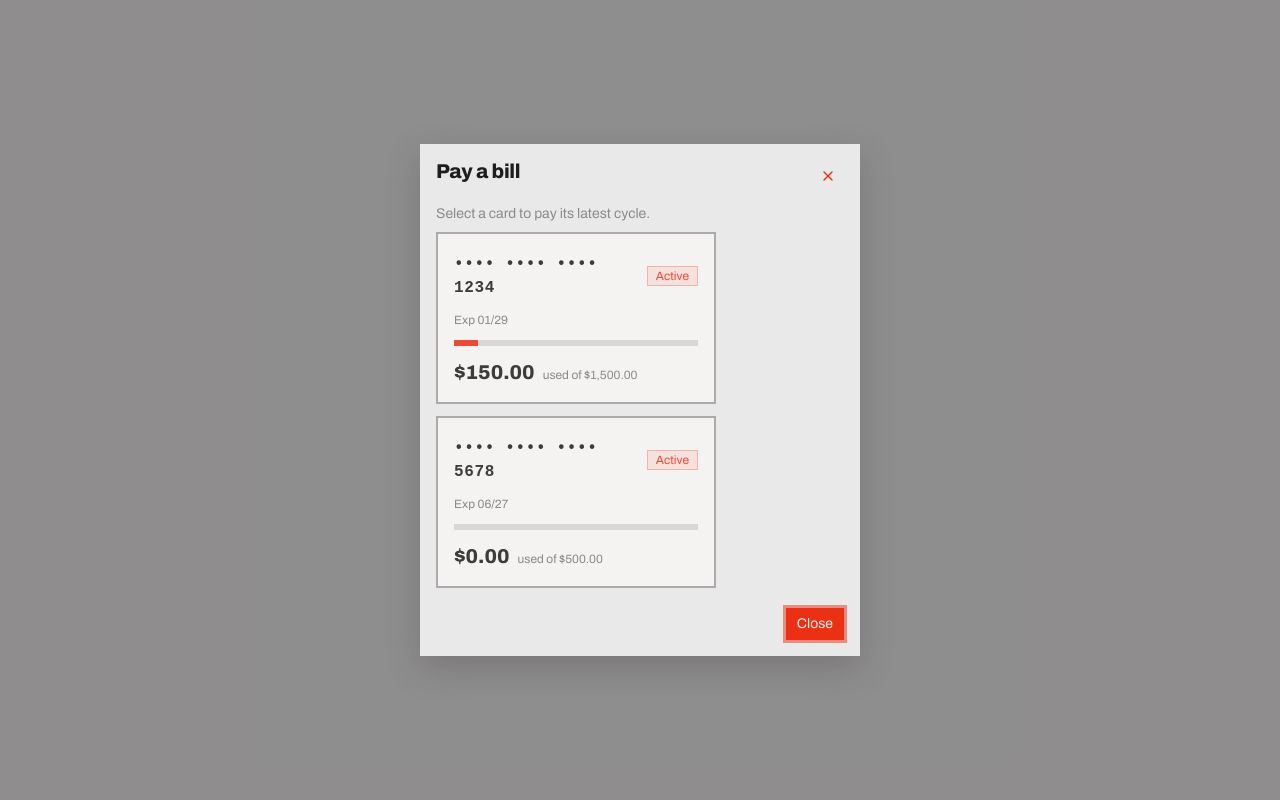
PayBillDialog › picking a card advances straight to PayDialog, preset to that card's latest cycle
Click the text "•••• •••• •••• 1234". click: (526,276)
box: [454,255,597,297]
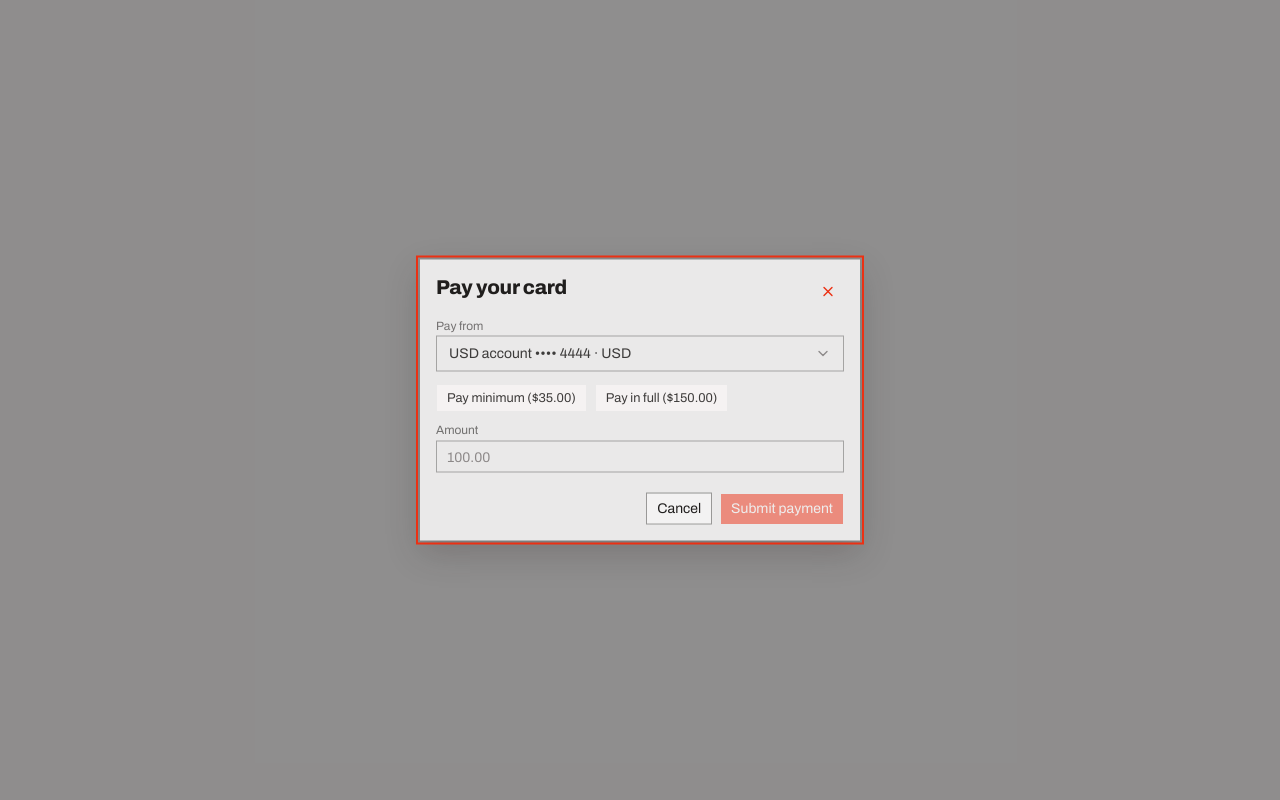
Check: the heading "Pay your card" is shown, box [436,276,567,298]
Check: the button "Pay minimum ($35.00)" is shown, box [436,384,587,412]
Check: the button "Pay in full ($150.00)" is shown
Click the button "Pay in full ($150.00)". click: (662,398)
box: [595,384,728,412]
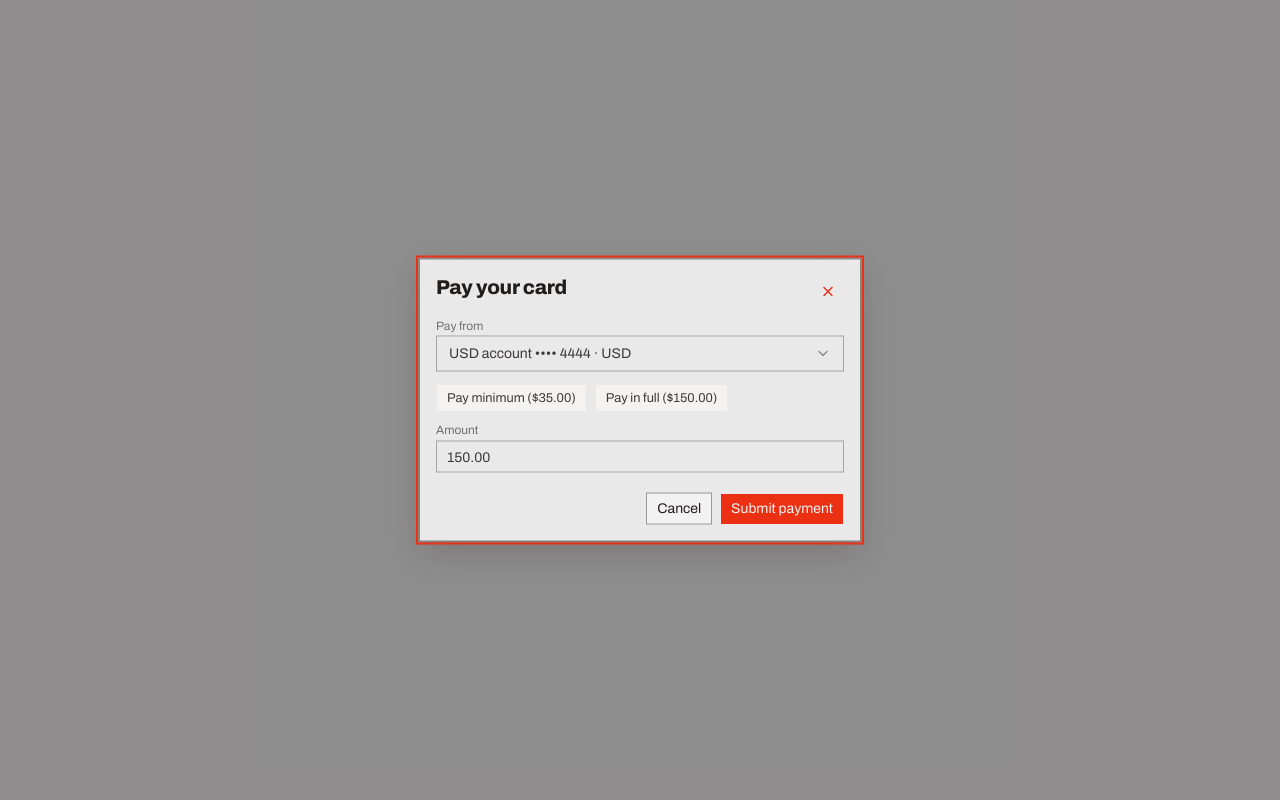
Check: the field labelled "Amount" holds "150.00", box [436,440,844,472]
